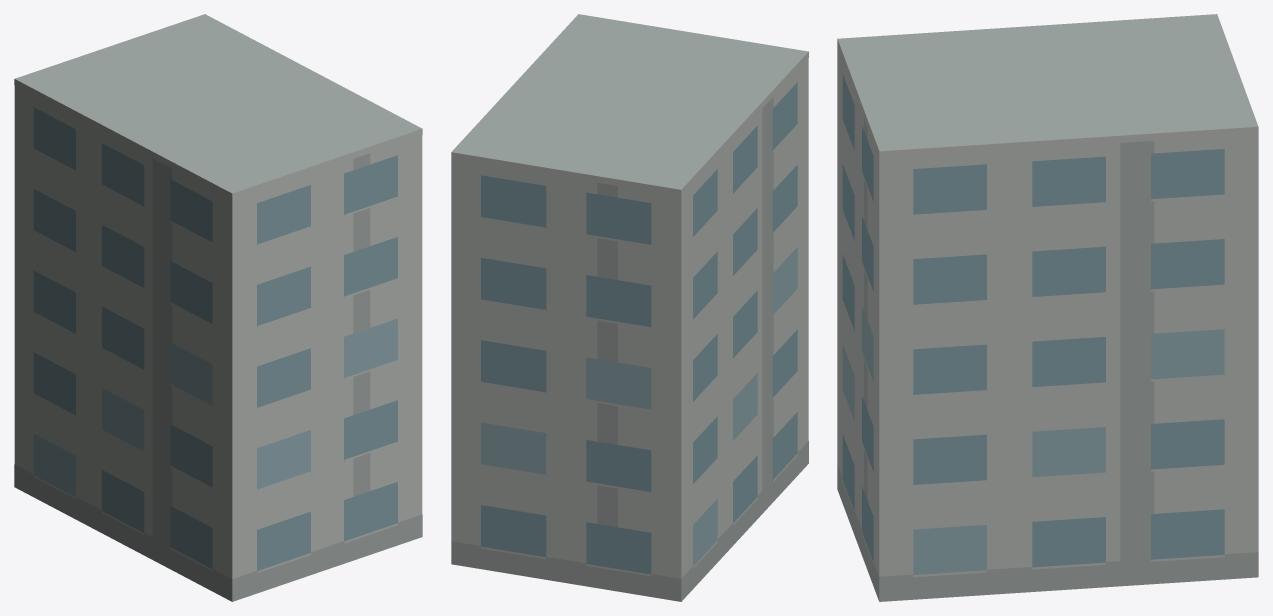
The model's file is survey-upis-32752552.glb.
3 views of the same model, side by side, from view 1: azimuth 30°, elevation 25°; view 2: azimuth 150°, elevation 25°; view 3: azimuth 270°, elevation 25° (orthographic). The views are drawn at different scales.
Visible parts, largest first — view 1: survey-upis-32752552.tmp; view 2: survey-upis-32752552.tmp; view 3: survey-upis-32752552.tmp.
Part boxes in pixels (x1,y1,x2,y2): survey-upis-32752552.tmp: [14, 14, 422, 601]; survey-upis-32752552.tmp: [451, 14, 808, 601]; survey-upis-32752552.tmp: [837, 14, 1258, 601].
Size of the model in its own units: 9.94 by 15.19 by 12.88.
